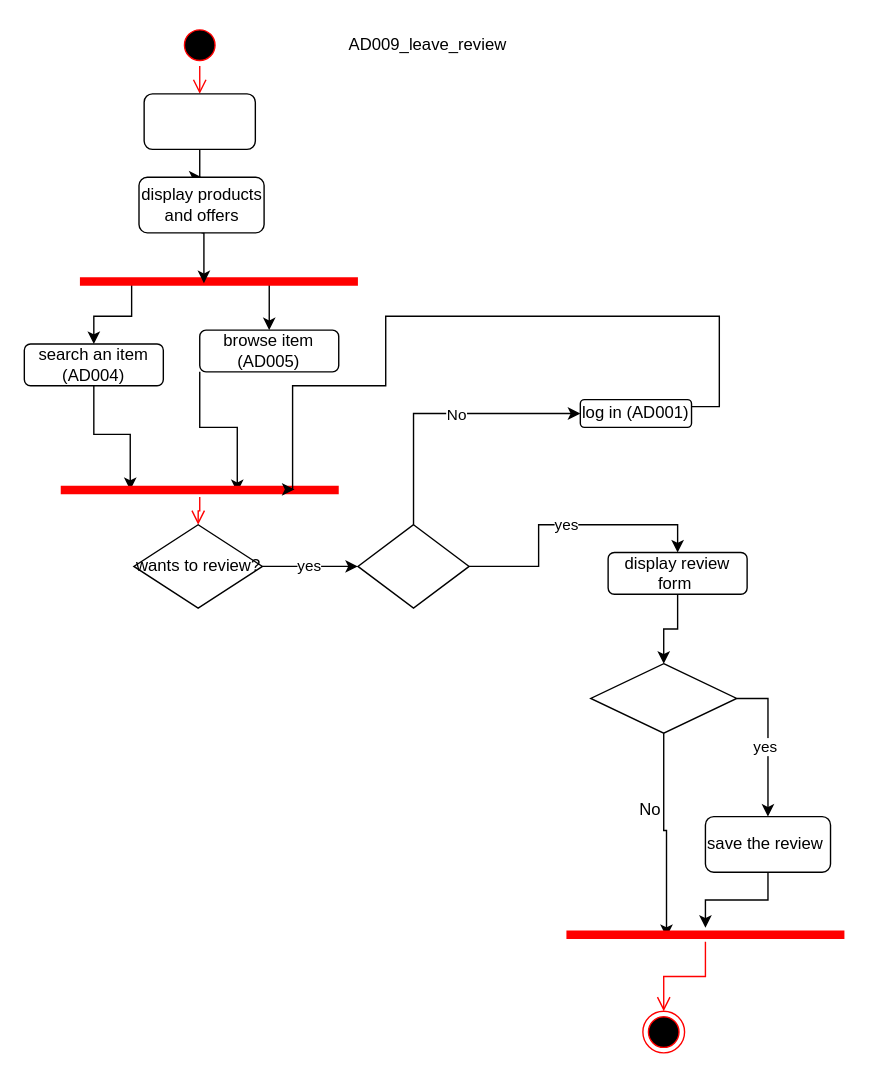
This 873x1077 diagram has some shape labels left out. Each missing label, with the centre of its shape:
confirm submission?: point 663,697
is logged in?: point 413,565
navigate to the website: point 199,120
